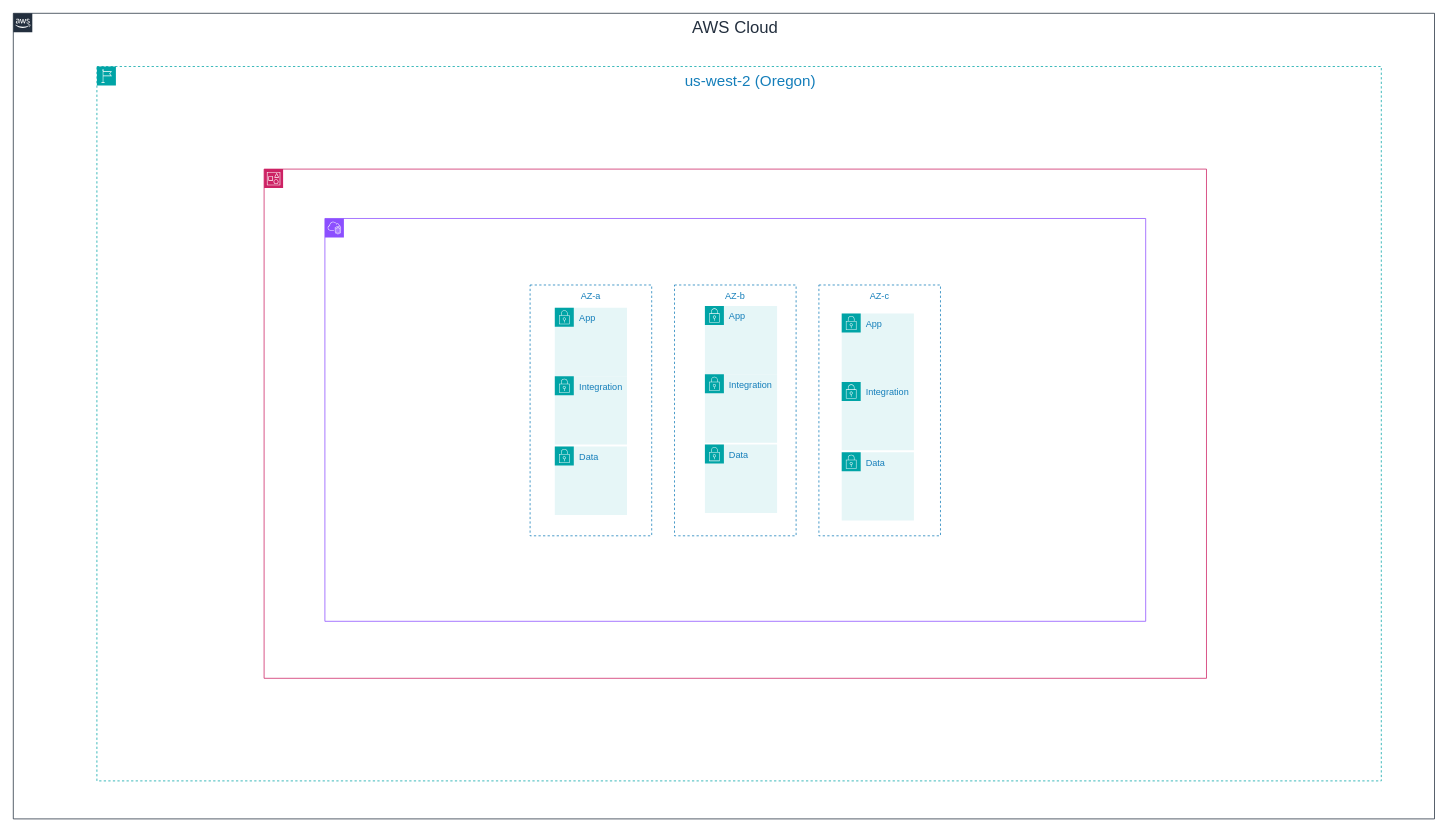
This 1448x832 diagram has some shape labels left out. The box of each missing label's shape, as (x1, y1, x2, y2) in pixels:
Prod account: (263, 168, 1206, 678)
Prod VPC · IPAM-assigned · no internet gateway: (324, 218, 1146, 621)
